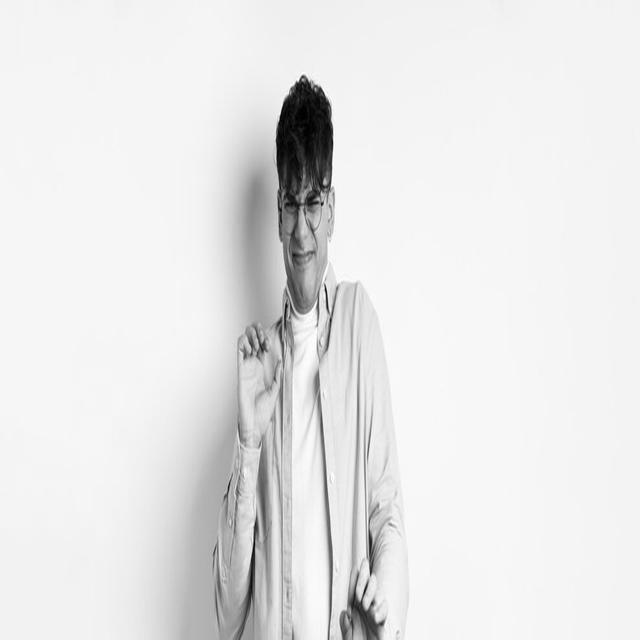Disgust: (281, 167, 328, 309)
